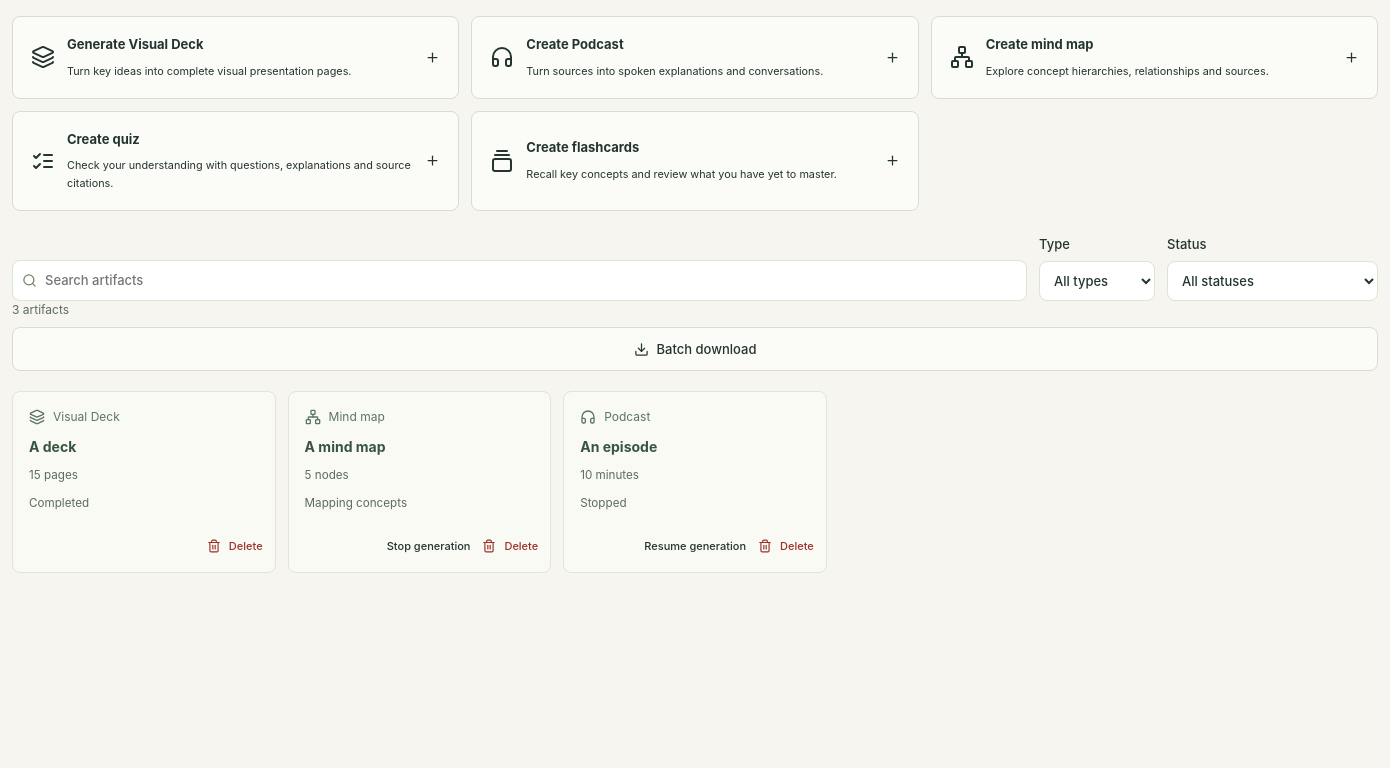
Test case: action failures stay visible and filtering does not issue generation requests
The width and height of the screenshot is (1390, 768).
Click the button "Stop generation".
click(429, 546)  # box [385,528,472,564]
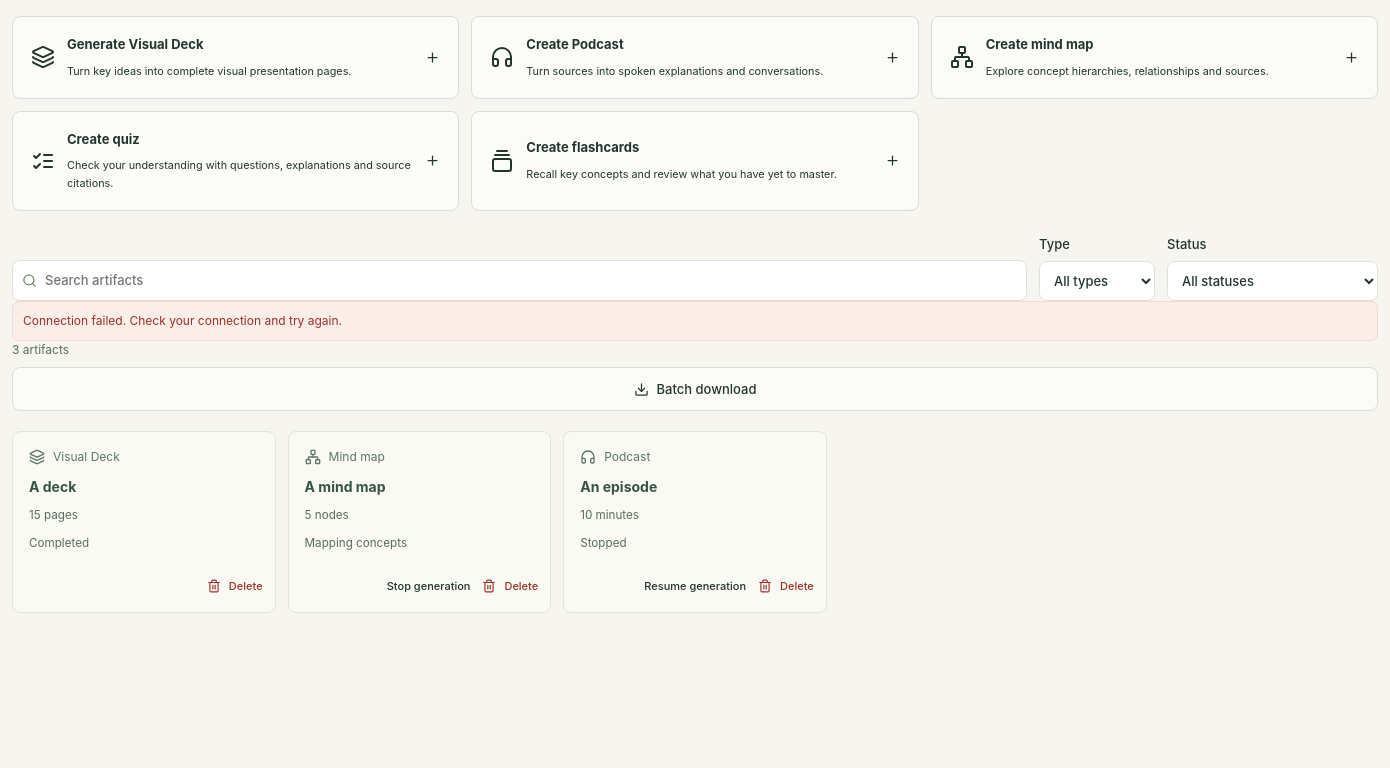
expect the message "Connection failed. Check your connection and try again." is shown: met, box [12,301,1378,341]
Select "Stopped or needs attention" in the dropdown named "Artifact status" at point(1272, 281), box [1167,261,1378,301]
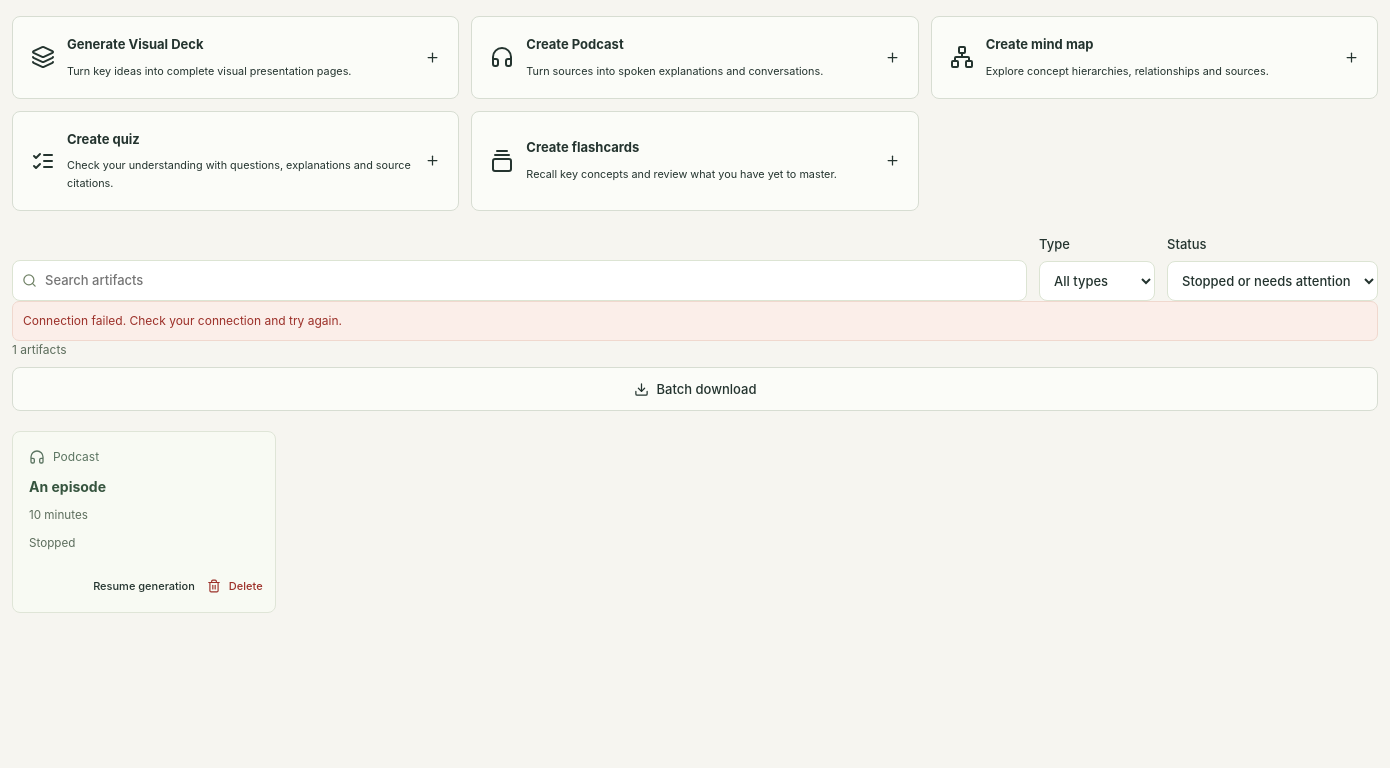
expect the text "An episode" is shown: met, box [29,478,106,495]
expect the button "A deck" is gone: met
Select "Ready to view" in the dropdown named "Artifact status" at point(1272, 281), box [1167,261,1378,301]
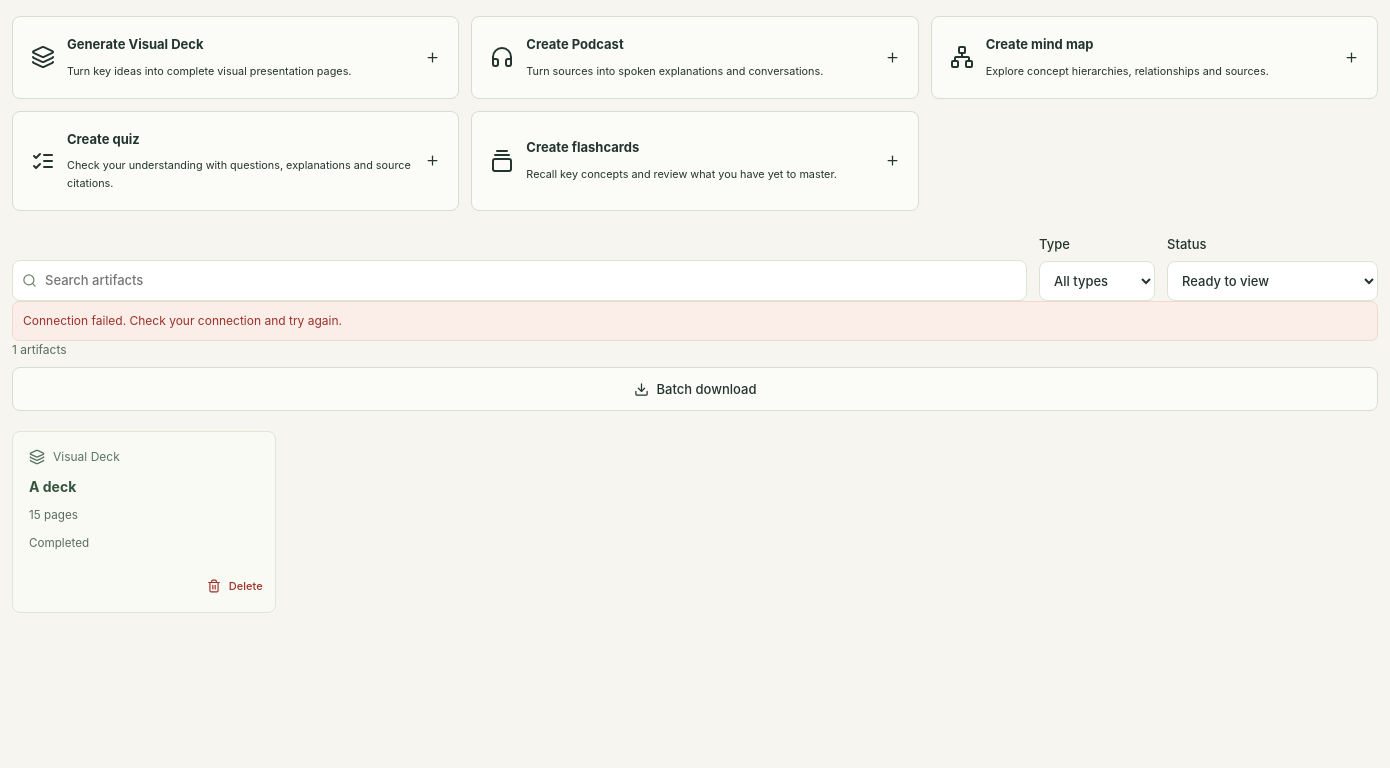
expect the text "A deck" is shown: met, box [29,478,76,495]
expect the button "An episode" is gone: met
